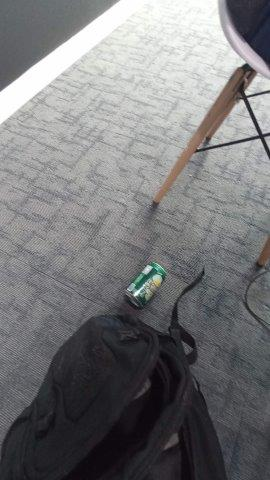kaleng: (125, 262, 167, 307)
